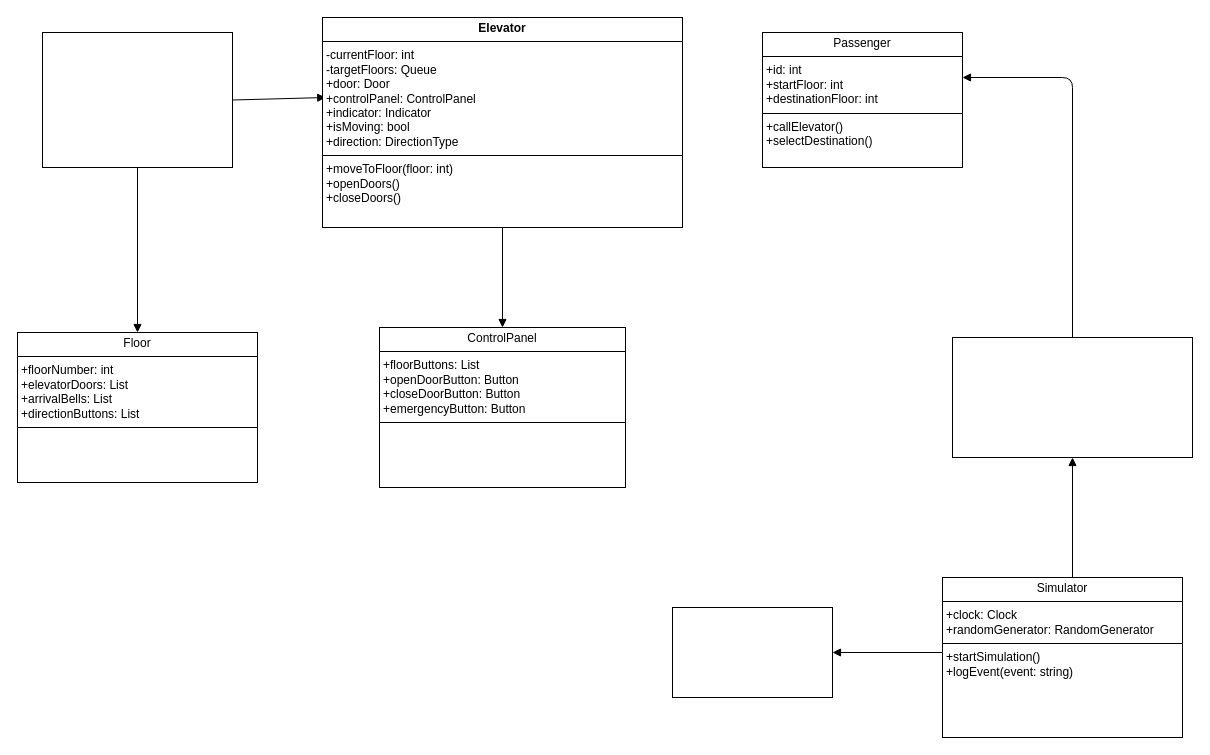
This 1210x755 diagram has some shape labels left out. The shapes that lost their labels are listed below. From the top down, each one's centre as x and y in pixels, then its label:
At pixel 137 100: "Building +floors: List +elevators: List".
At pixel 1072 397: "RandomGenerator +generatePassenger(): Passenger +generateFloor(): int".
At pixel 752 652: "Clock +currentTime: DateTime +tick()".
